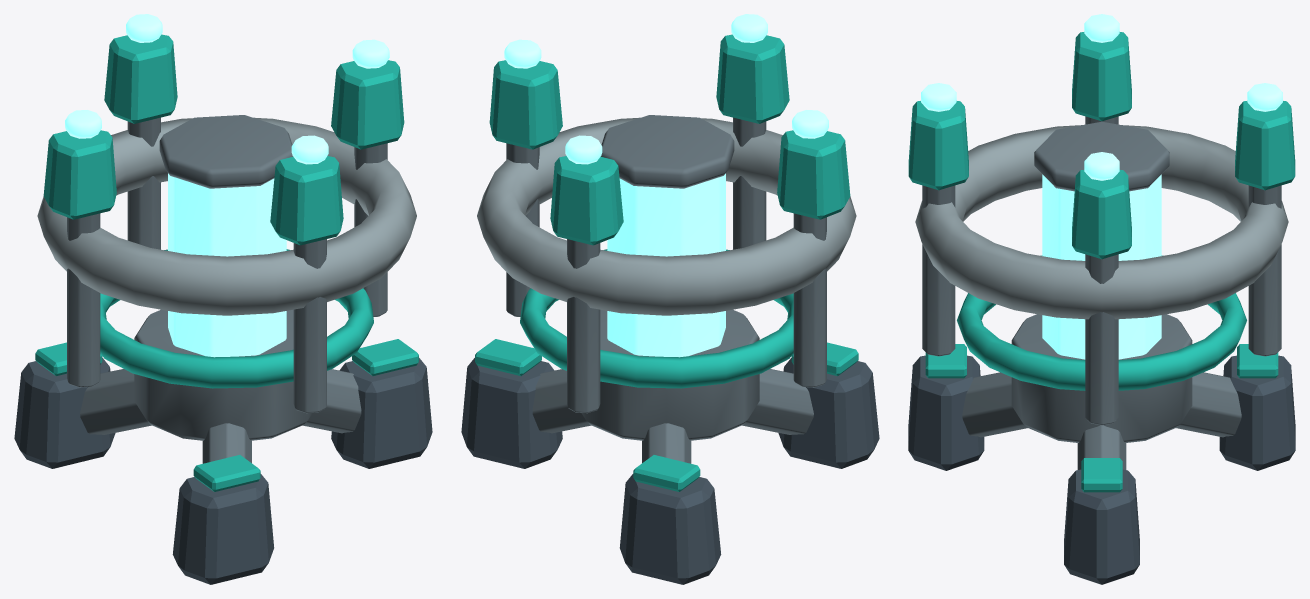
The model's file is SM_Mend.fbx.
3 renders of one model, left to right at view 1: azimuth 30°, elevation 25°; view 2: azimuth 150°, elevation 25°; view 3: azimuth 270°, elevation 25°, orthographic.
Visible parts, largest first — view 1: SM_Mend; view 2: SM_Mend; view 3: SM_Mend.
Boxes of the visible parts, x1,y1,x2,y2 form: SM_Mend: [14, 14, 432, 584]; SM_Mend: [461, 14, 879, 584]; SM_Mend: [908, 14, 1295, 584].
Size of the model in its own units: 38 by 34.24 by 39.
